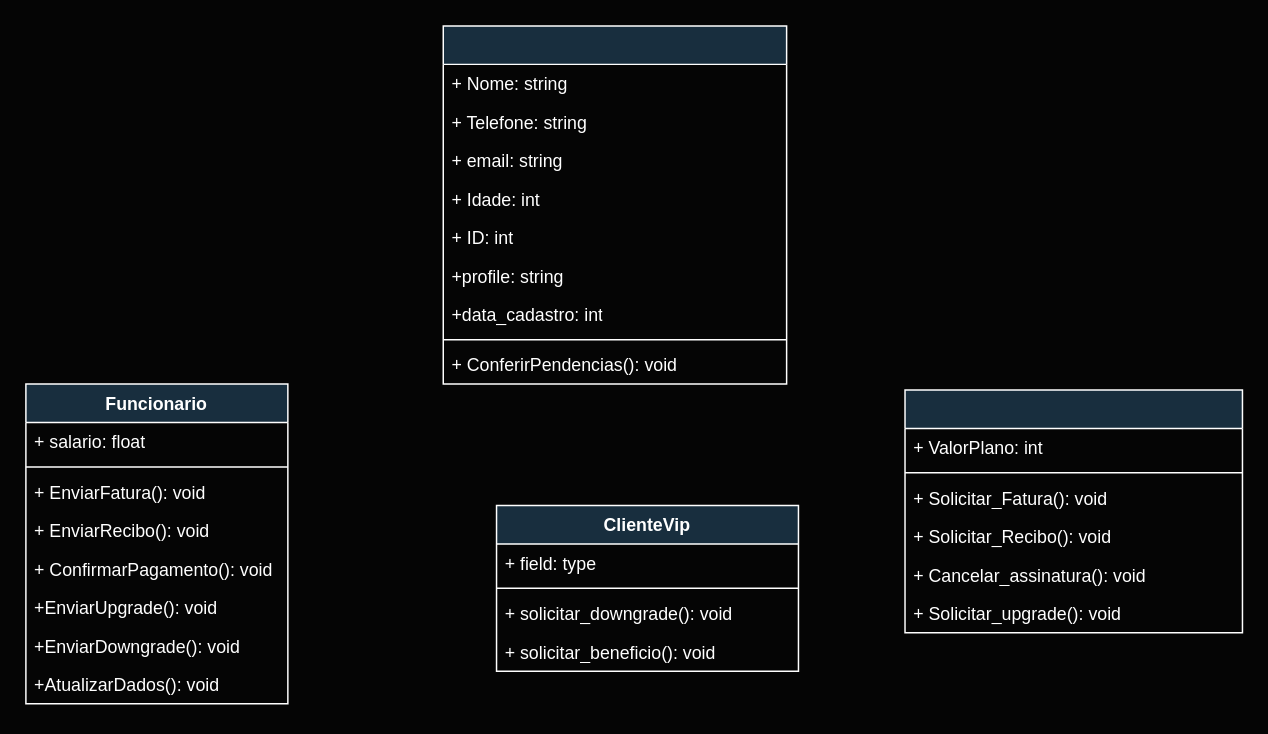
Image size: 1268x734. Some labels were removed from this diagram. Here are the shapes that lost their labels. From the top down, the box of each, then its label:
(442, 24, 787, 384): Pessoas
(904, 388, 1242, 633): Cliente
